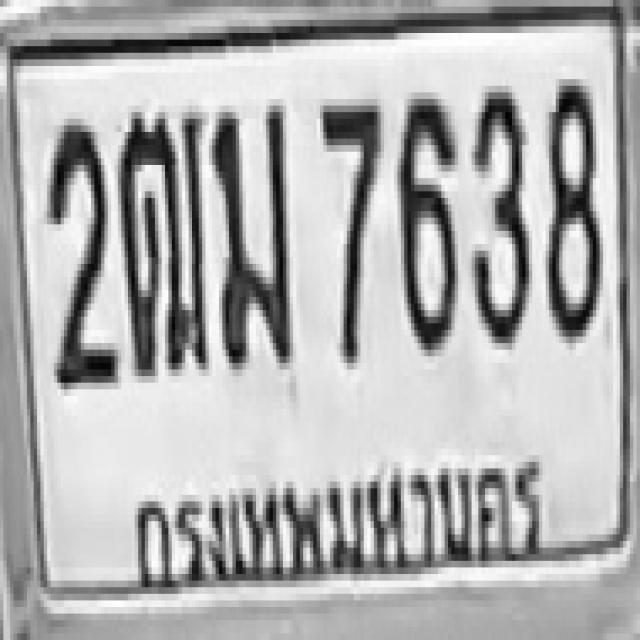2: (45, 112, 113, 383)
27ThorPhuThao: (116, 106, 207, 376)
3: (470, 82, 530, 346)
42MorMa: (210, 96, 292, 366)
6: (396, 92, 456, 350)
7: (320, 96, 381, 360)
8: (546, 76, 600, 340)
Bangkok: (116, 430, 560, 600)
